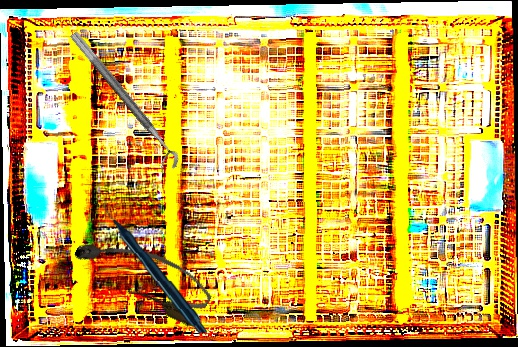Cannula: (69, 218, 218, 331)
Fixation Ring: (58, 30, 184, 177)
Handpiece: (103, 196, 208, 337)
